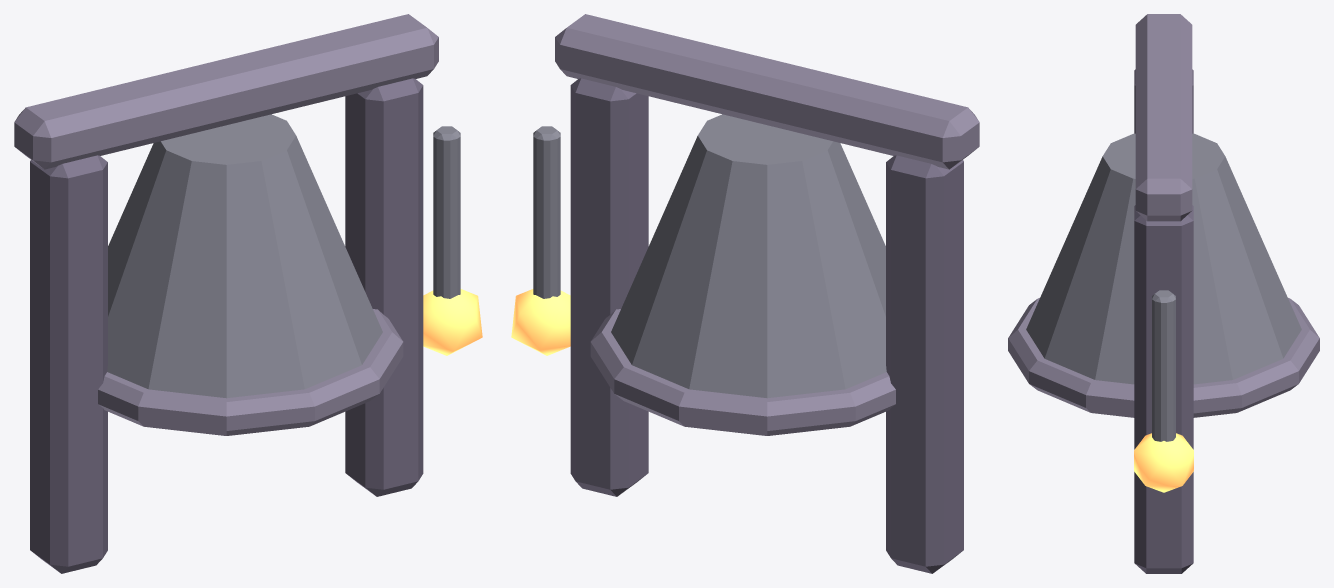
File: ember_bell.glb
3 views of the same model, side by side, from view 1: azimuth 30°, elevation 25°; view 2: azimuth 150°, elevation 25°; view 3: azimuth 270°, elevation 25° (orthographic). The views are drawn at different scales.
Visible parts, largest first — view 1: ember_bell_Body, ember_bell_Bell.001, ember_bell_Striker.001; view 2: ember_bell_Body, ember_bell_Bell.001, ember_bell_Striker.001; view 3: ember_bell_Bell.001, ember_bell_Body, ember_bell_Striker.001.
Boxes of the visible parts, bbox=[...] form: ember_bell_Body: bbox=[14, 14, 438, 573]; ember_bell_Bell.001: bbox=[98, 114, 403, 435]; ember_bell_Striker.001: bbox=[423, 126, 482, 355]; ember_bell_Body: bbox=[555, 14, 979, 573]; ember_bell_Bell.001: bbox=[590, 114, 895, 435]; ember_bell_Striker.001: bbox=[511, 126, 570, 355]; ember_bell_Bell.001: bbox=[1008, 133, 1319, 417]; ember_bell_Body: bbox=[1134, 14, 1193, 573]; ember_bell_Striker.001: bbox=[1134, 290, 1193, 492].
Size of the model in its own units: 1.96 by 1.88 by 1.32.
